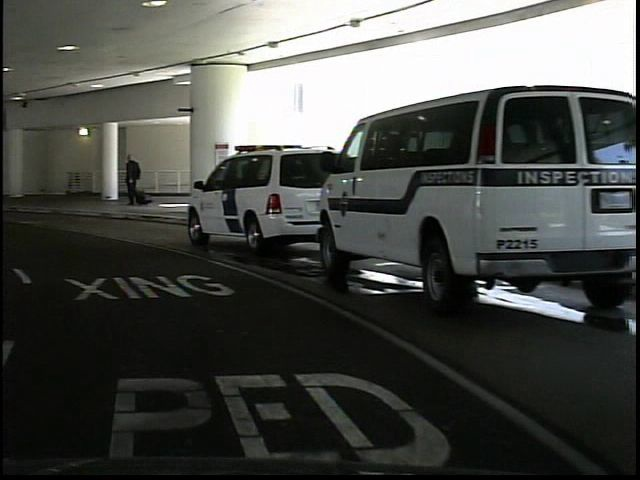person: (119, 150, 144, 209)
